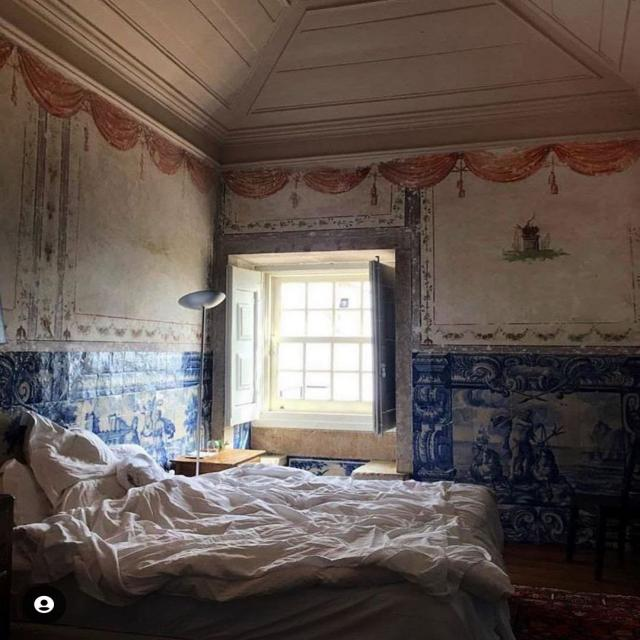bed: (4, 413, 511, 640)
